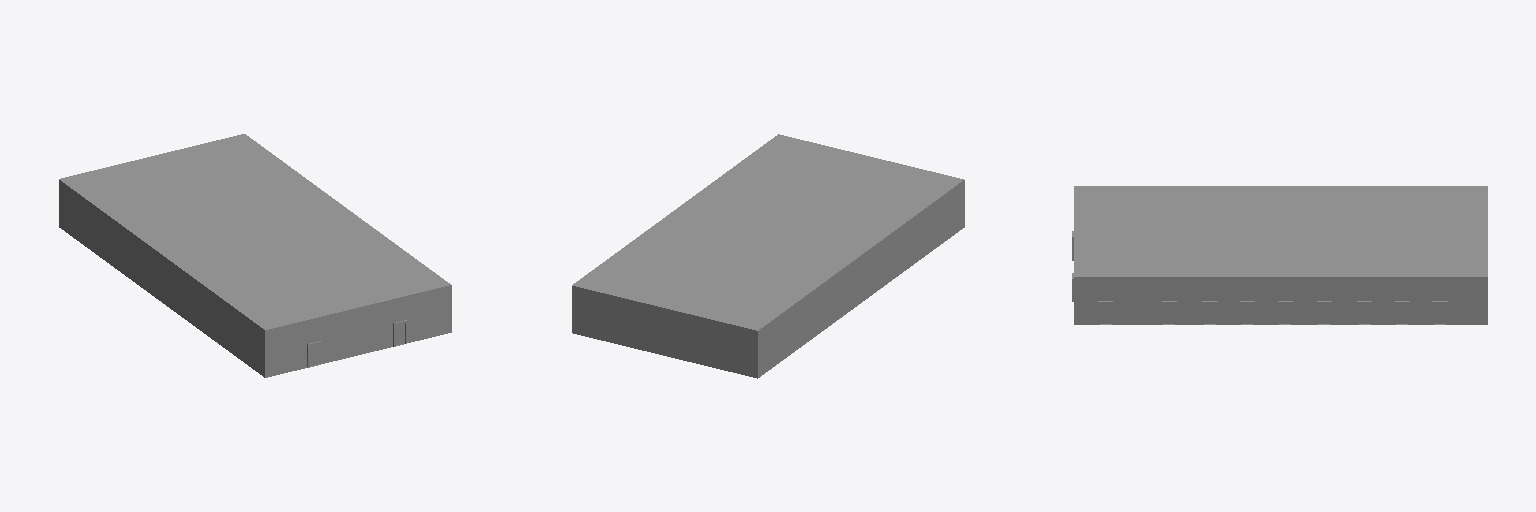
The model's file is edificio444.obj.
3 views of the same model, side by side, from view 1: azimuth 30°, elevation 25°; view 2: azimuth 150°, elevation 25°; view 3: azimuth 270°, elevation 25° (orthographic).
Visible parts, largest first — view 1: Cubo.015_Cubo.045; view 2: Cubo.015_Cubo.045; view 3: Cubo.015_Cubo.045.
Boxes of the visible parts, <box> form: Cubo.015_Cubo.045: <box>59,134,451,377</box>; Cubo.015_Cubo.045: <box>572,134,964,378</box>; Cubo.015_Cubo.045: <box>1072,186,1487,324</box>.
Size of the model in its own units: 5.86 by 1.43 by 11.24.